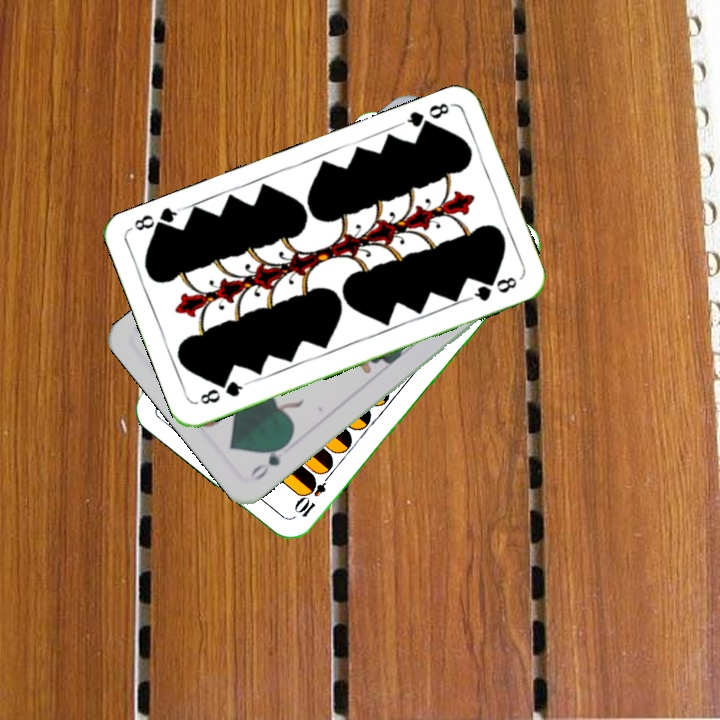E10: (289, 466, 334, 520)
G8: (397, 98, 454, 135), (196, 377, 250, 407)
GO: (246, 437, 292, 484)
